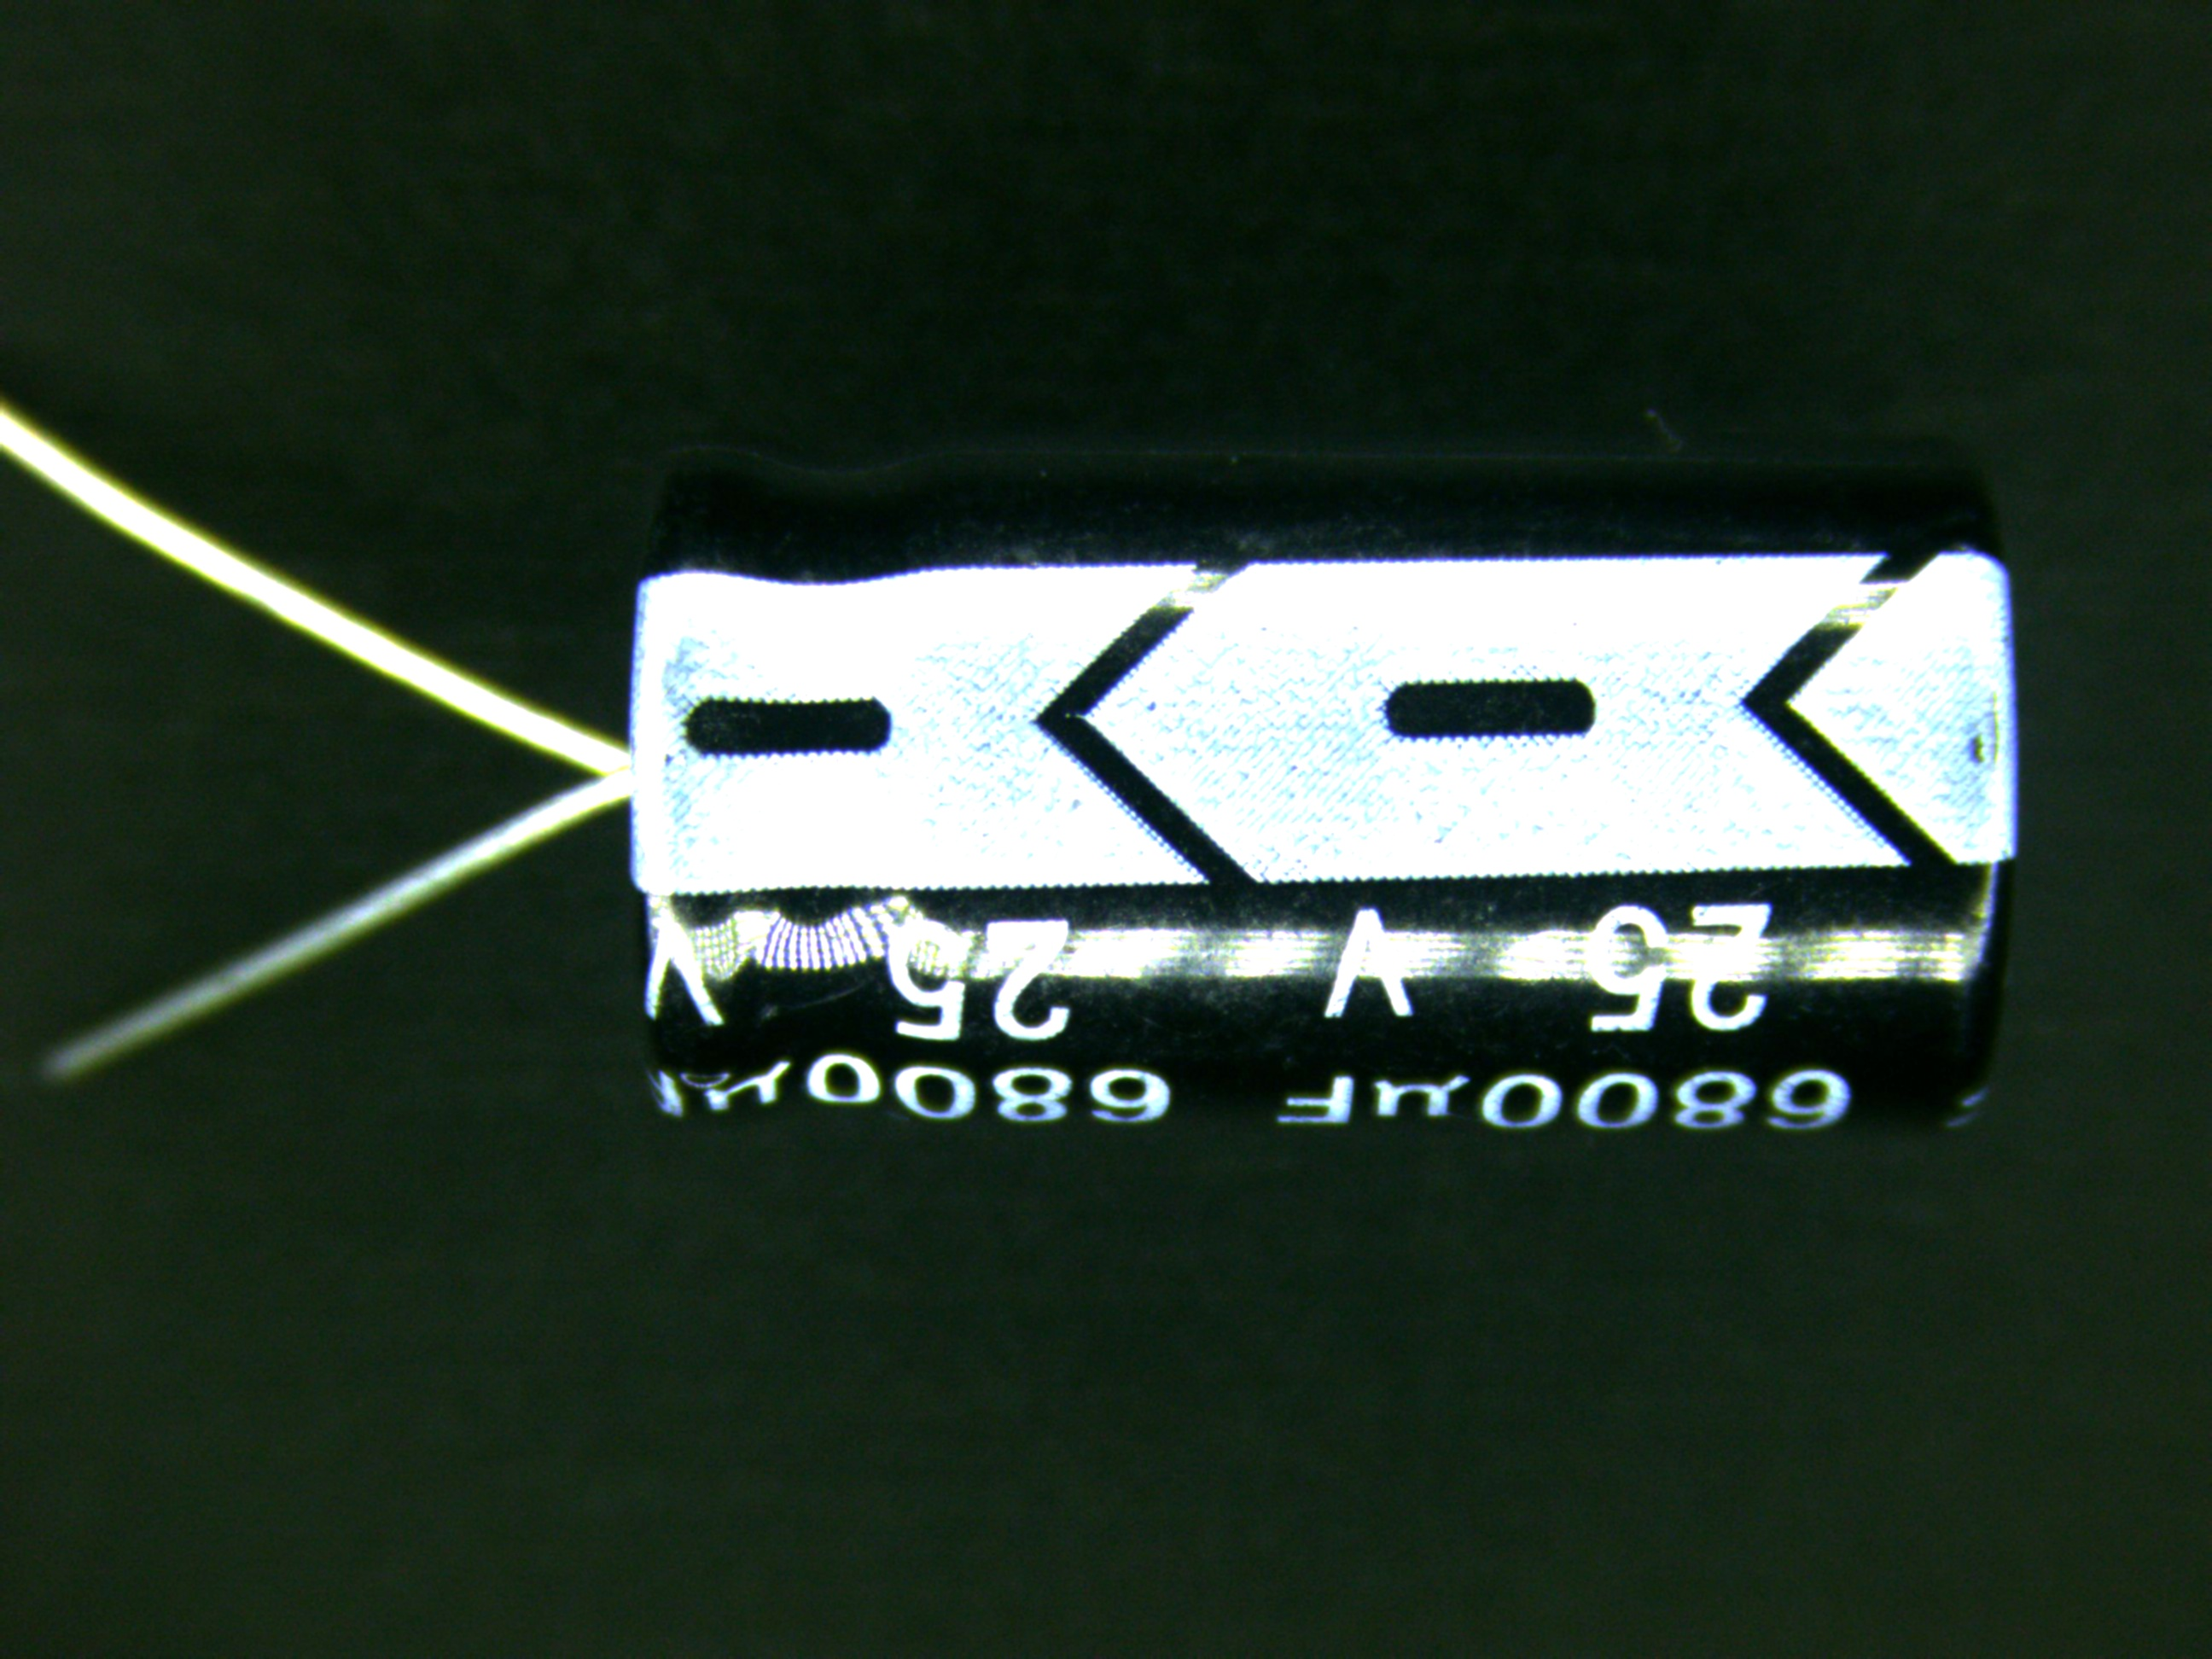c3: (308, 420, 2029, 1154)
